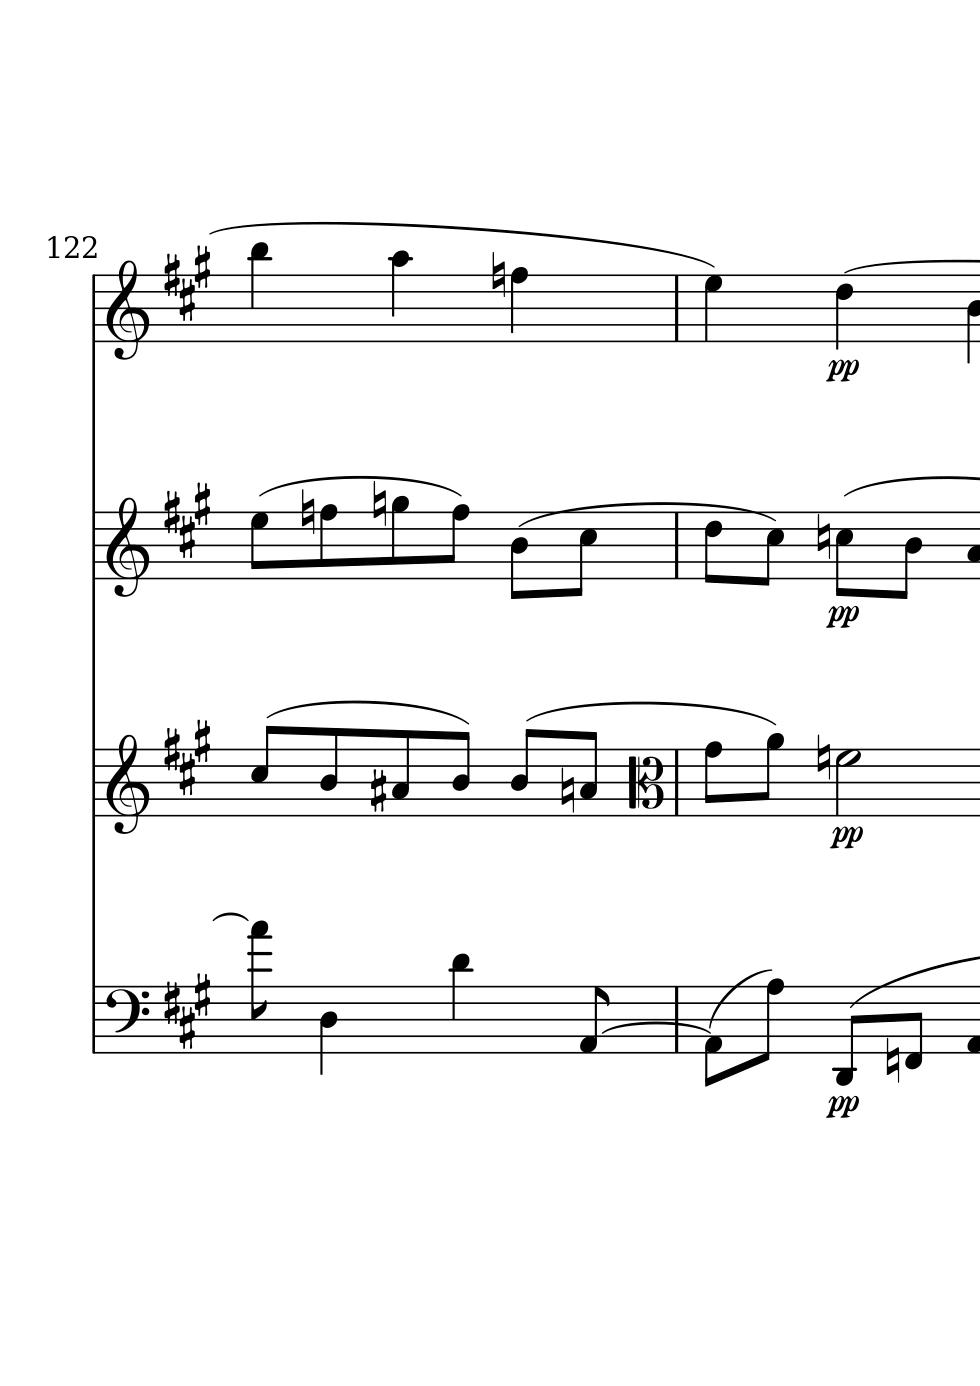1: (46, 233, 60, 261)
2: (78, 234, 98, 261), (62, 234, 80, 261)
2_7: (834, 748, 861, 819)
4_10: (387, 248, 412, 344)
4_11: (247, 242, 272, 345)
4_4: (317, 983, 340, 1077)
4_6: (833, 271, 856, 352)
4_7: (701, 273, 724, 344)
4_8: (509, 265, 529, 345)
8_-1: (903, 985, 924, 1072)
8_-3: (832, 983, 859, 1086)
8_1: (576, 983, 611, 1055), (701, 986, 724, 1088)
8_11: (448, 951, 471, 1057)
8_15: (246, 918, 272, 1053)
8_3: (389, 729, 413, 817), (578, 730, 599, 817)
8_4: (894, 510, 924, 602), (508, 727, 538, 818), (316, 726, 342, 818), (507, 510, 528, 602), (450, 730, 472, 817)
8_5: (249, 724, 278, 817), (568, 511, 598, 599), (757, 510, 784, 587), (833, 510, 853, 597)
8_6: (702, 511, 723, 586)
8_7: (249, 510, 272, 581)
8_8: (753, 976, 785, 1064), (440, 503, 470, 582), (317, 503, 340, 582), (701, 739, 723, 819)
8_9: (754, 732, 784, 819), (389, 495, 412, 582)
A_S: (160, 718, 214, 796), (160, 243, 213, 321), (160, 970, 213, 1049), (160, 481, 213, 559)
Cclef: (624, 748, 665, 818)
Fclef: (104, 984, 151, 1056)
Gclef: (104, 729, 151, 837), (104, 494, 150, 599), (105, 257, 150, 362)
Natural: (813, 511, 832, 562), (558, 765, 576, 815), (813, 732, 832, 782), (883, 1035, 902, 1085), (369, 479, 387, 528), (297, 486, 314, 536), (489, 251, 506, 300)
Sharp: (367, 767, 388, 815)
Single_barline: (668, 275, 687, 343), (667, 985, 686, 1053), (668, 513, 686, 579), (668, 749, 685, 815), (86, 512, 102, 580), (86, 749, 102, 817), (86, 274, 101, 343), (86, 986, 101, 1053)
Slur: (207, 220, 718, 269), (523, 701, 778, 729), (518, 502, 781, 527), (253, 476, 468, 498), (266, 702, 465, 724), (707, 965, 773, 1028), (601, 1022, 713, 1036), (211, 912, 249, 924)
pp: (824, 354, 861, 385), (824, 601, 860, 629), (828, 823, 864, 850), (824, 1093, 860, 1121)
